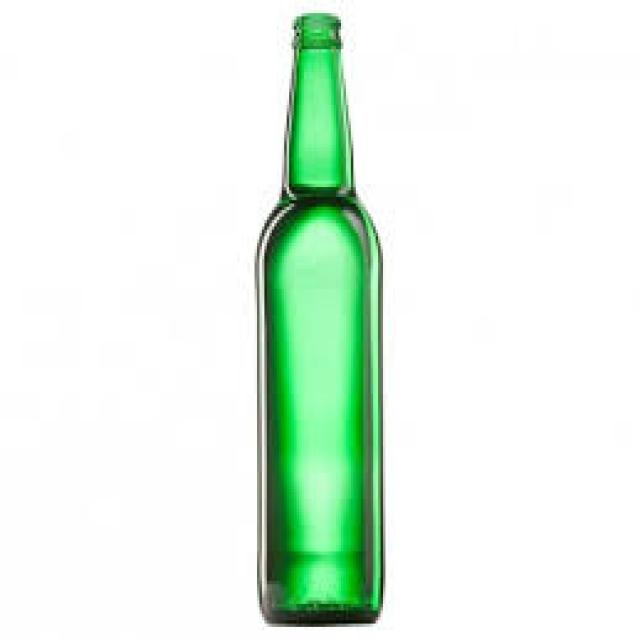glass: (255, 10, 381, 623)
